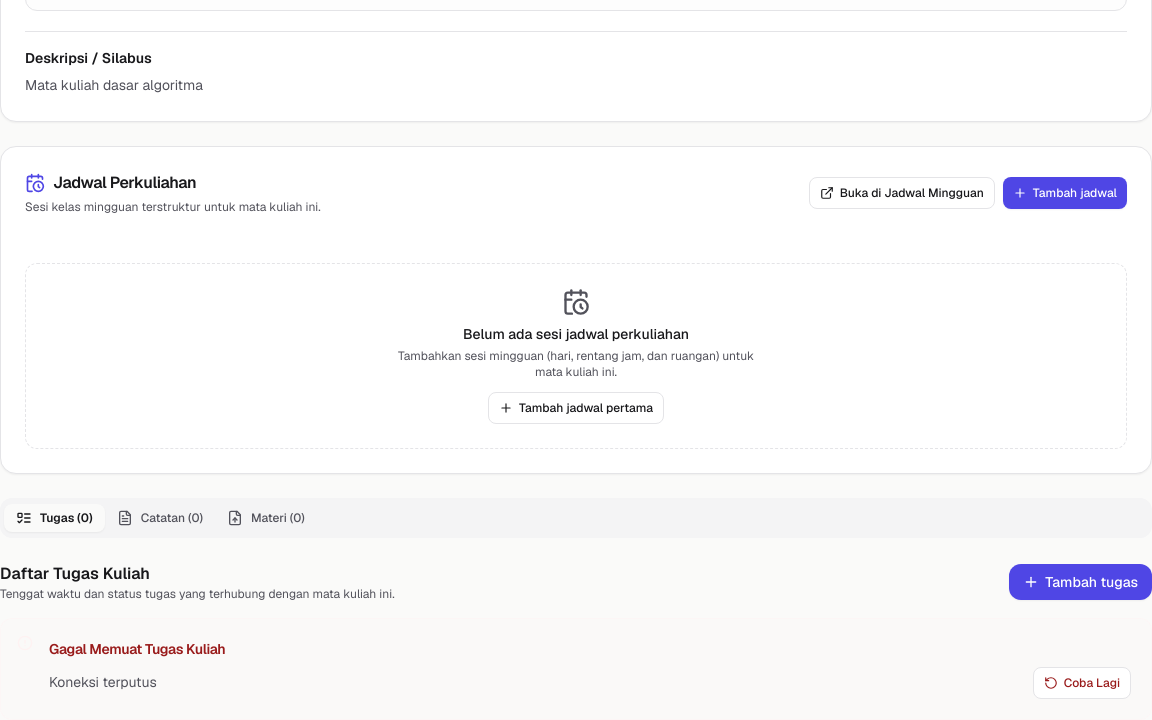
CourseDetailPage - Error States & Resilience Behavioral Tests › 4. Retry yang berhasil memulihkan data tugas dan membersihkan error state
(page scrolled)
Expected: the message "Gagal Memuat Tugas Kuliah Koneksi terputus Coba Lagi" is shown, [0, 618, 1151, 719]
Expected: the text "Koneksi terputus" is shown, [49, 671, 157, 694]
// Klik Coba Lagi
What coordinates should you click on to do the following:
click the button "Coba Lagi"
I would click on:
 (1082, 683)
Its box is [1033, 667, 1131, 699].
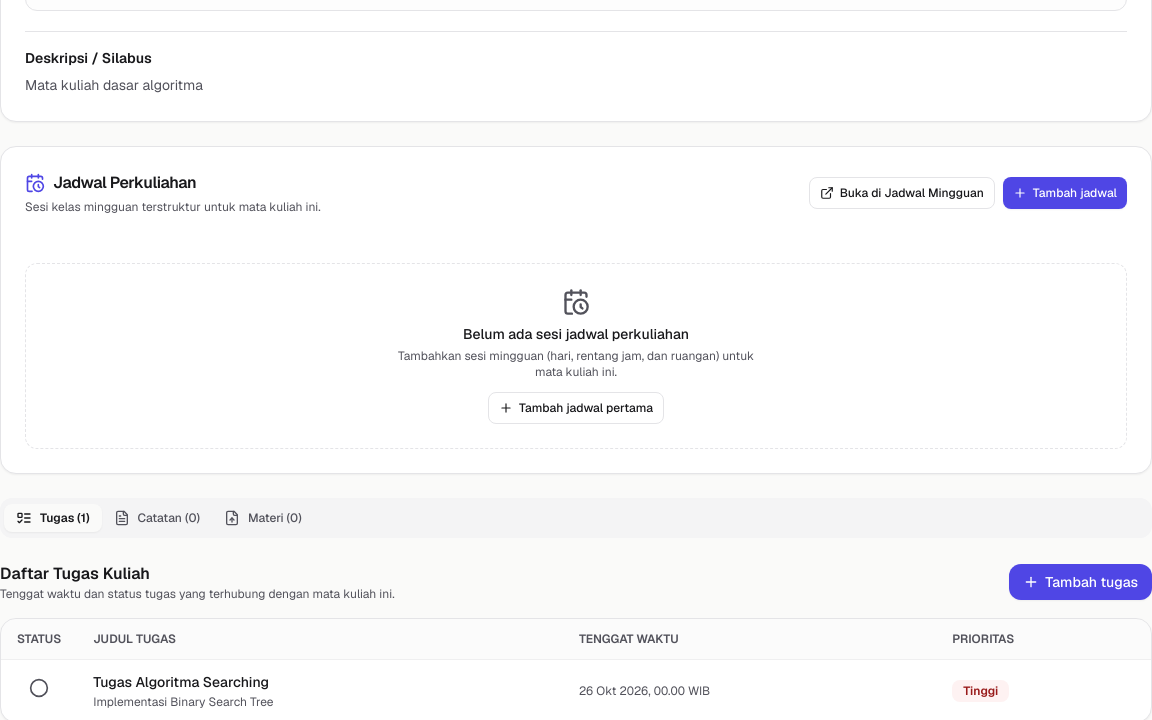
Now the text "Tugas Algoritma Searching" is shown, box [93, 673, 269, 691]
Now the message "Gagal Memuat Tugas Kuliah Koneksi terputus Coba Lagi" is gone
